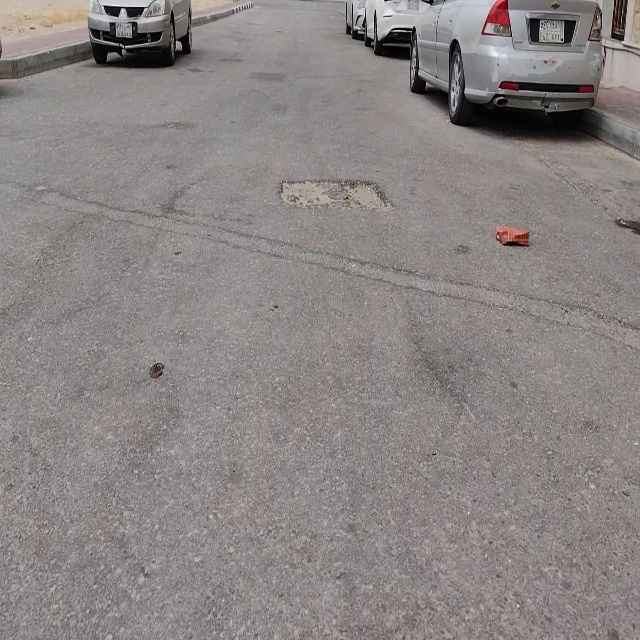pothole: (278, 180, 392, 210)
